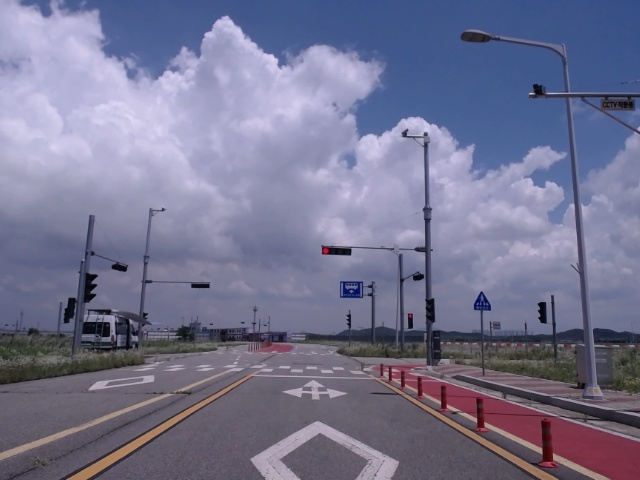red_4: (322, 247, 351, 256)
